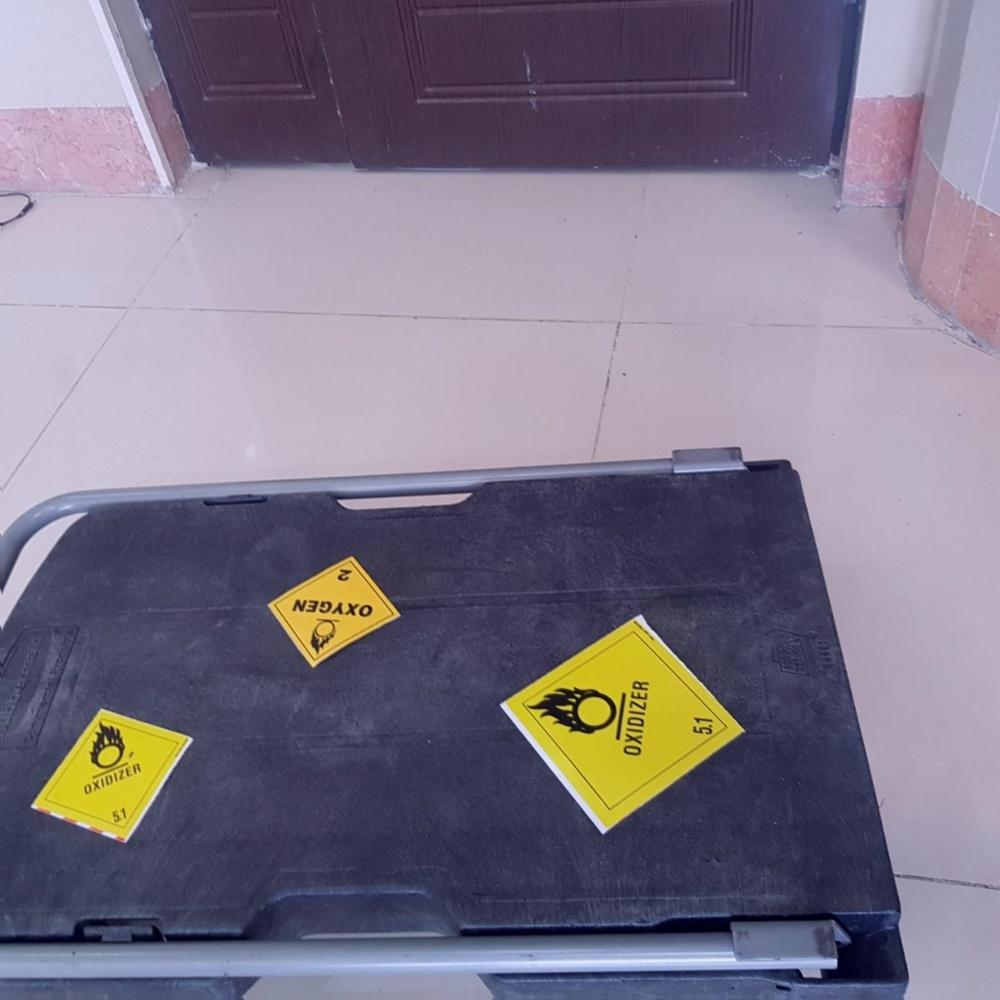oxidizer: (500, 620, 744, 841), (27, 711, 190, 846), (266, 557, 402, 675)
